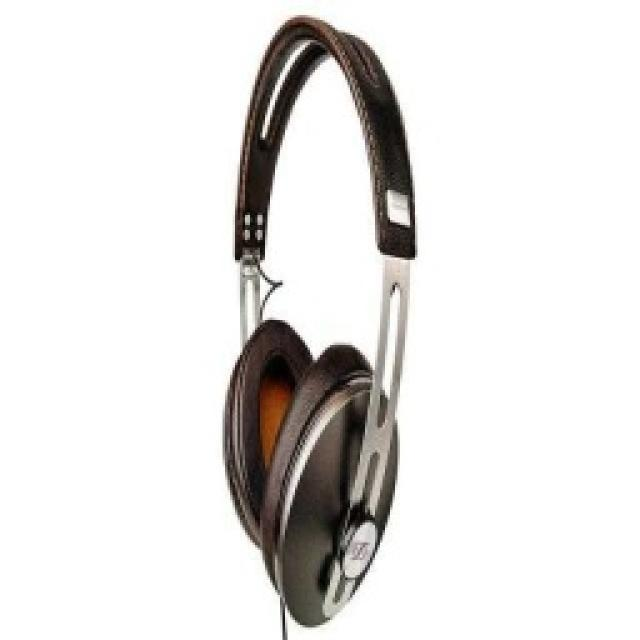headphones: (220, 12, 418, 628)
